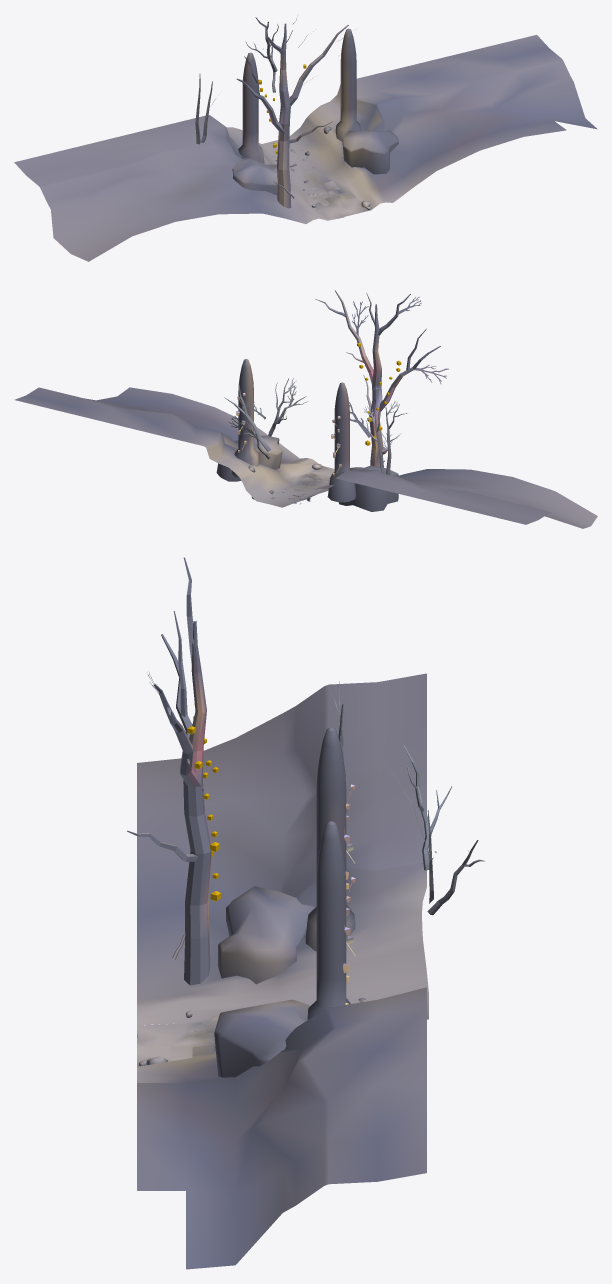
The model's file is Arctic_Luge_Exit.glb.
3 renders of one model, top to bottom at view 1: azimuth 30°, elevation 25°; view 2: azimuth 150°, elevation 25°; view 3: azimuth 270°, elevation 25°, orthographic. The views are drawn at different scales.
Parts seen in each view (by area): view 1: Arctic_Luge_Exit.001, Arctic_BirchA_holiday_multicolour, Arctic_BirchA_branchesBottom_holiday_multicolour, Arctic_BirchA_branchesTop_holiday_multicolour, Arctic_Birch_F_trunk; view 2: Arctic_Luge_Exit.001, Arctic_BirchA_holiday_multicolour, Arctic_BirchA_branchesBottom_holiday_multicolour, Arctic_BirchA_branchesTop_holiday_multicolour, Arctic_Birch_E_branches, Arctic_Birch_F_trunk; view 3: Arctic_Luge_Exit.001, Arctic_BirchA_holiday_multicolour, Arctic_BirchA_branchesBottom_holiday_multicolour, Arctic_BirchA_branchesTop_holiday_multicolour.
Part boxes in pixels (left/top/right/bottom): Arctic_Luge_Exit.001: left=14, top=28, right=597, bottom=261; Arctic_BirchA_holiday_multicolour: left=255, top=17, right=296, bottom=208; Arctic_BirchA_branchesBottom_holiday_multicolour: left=236, top=56, right=332, bottom=172; Arctic_BirchA_branchesTop_holiday_multicolour: left=289, top=25, right=349, bottom=106; Arctic_Birch_F_trunk: left=195, top=74, right=212, bottom=144; Arctic_Luge_Exit.001: left=14, top=359, right=597, bottom=528; Arctic_BirchA_holiday_multicolour: left=366, top=293, right=421, bottom=466; Arctic_BirchA_branchesBottom_holiday_multicolour: left=349, top=328, right=448, bottom=454; Arctic_BirchA_branchesTop_holiday_multicolour: left=315, top=290, right=378, bottom=389; Arctic_Birch_E_branches: left=224, top=383, right=308, bottom=451; Arctic_Birch_F_trunk: left=363, top=401, right=397, bottom=474; Arctic_Luge_Exit.001: left=137, top=673, right=428, bottom=1269; Arctic_BirchA_holiday_multicolour: left=183, top=557, right=211, bottom=985; Arctic_BirchA_branchesBottom_holiday_multicolour: left=127, top=611, right=197, bottom=861; Arctic_BirchA_branchesTop_holiday_multicolour: left=148, top=671, right=203, bottom=790.
Size of what is drawn, in the model's own units: 26.44 by 9.99 by 7.89.
